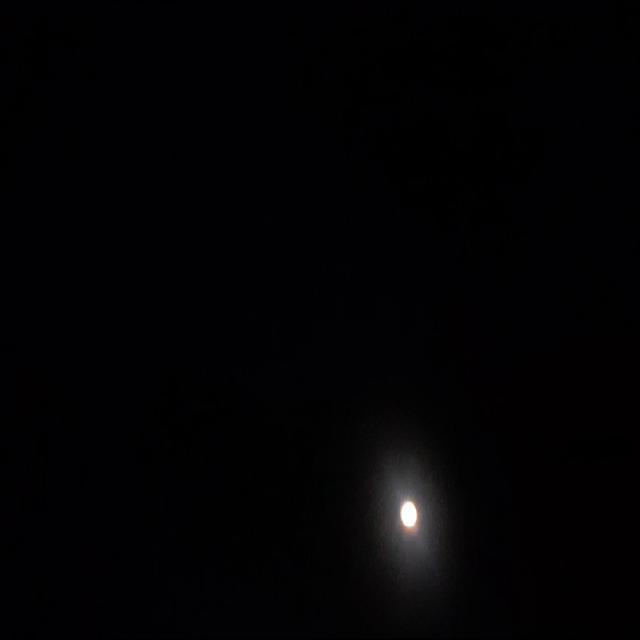moon: (398, 496, 421, 530)
